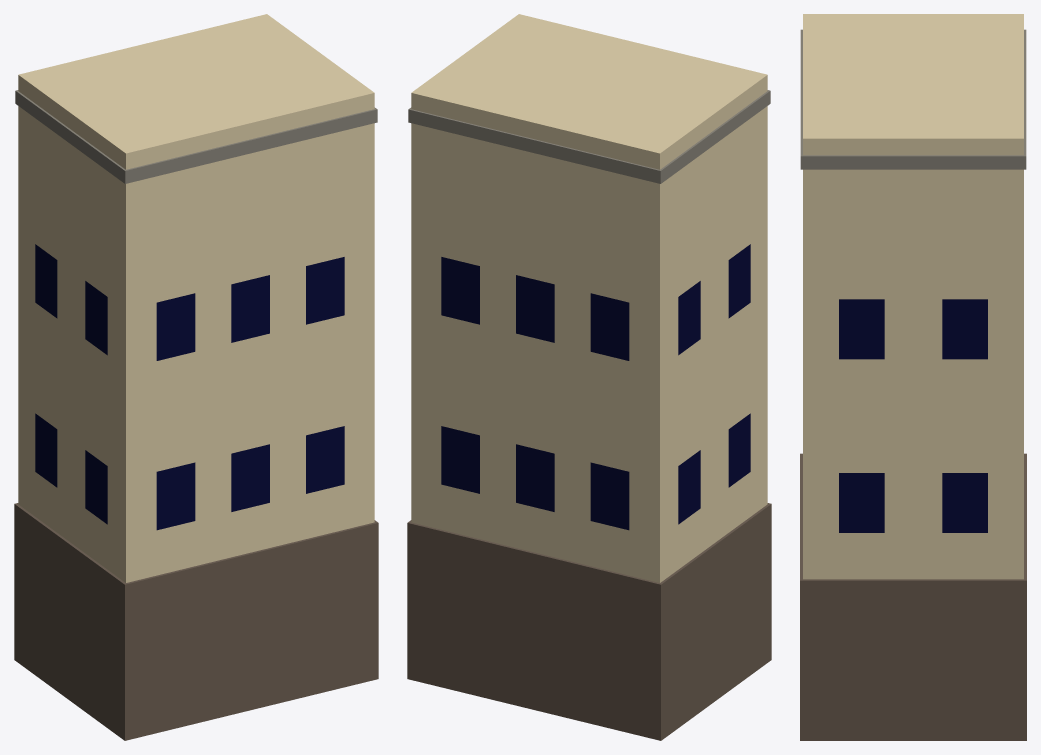
The model's file is env_building_block_a.obj.
The picture shows the model from 3 angles, left to right: view 1: azimuth 30°, elevation 25°; view 2: azimuth 150°, elevation 25°; view 3: azimuth 270°, elevation 25°; orthographic projection. The views are drawn at different scales.
Parts seen in each view (by area): view 1: BuildingBlock; view 2: BuildingBlock; view 3: BuildingBlock.
Part boxes in pixels (x1,y1,x2,y2): BuildingBlock: [14, 14, 378, 740]; BuildingBlock: [407, 14, 771, 740]; BuildingBlock: [800, 14, 1026, 740].
Bounding box in the file's own units: 4.08 × 9 × 3.08.
